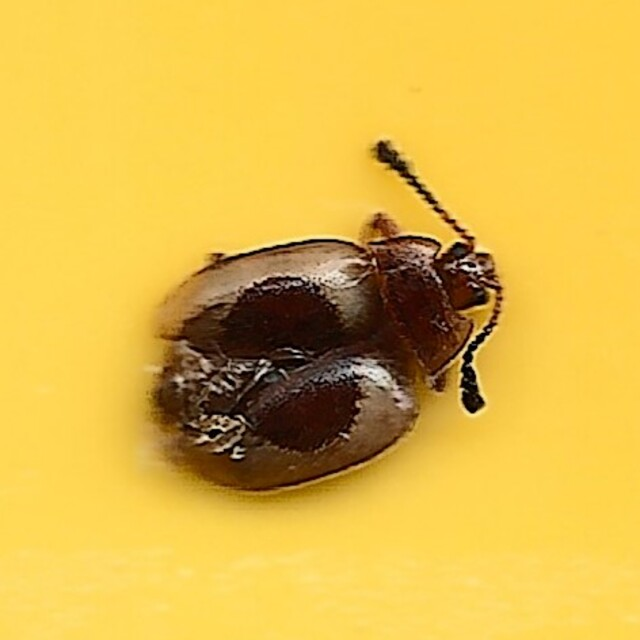Coleoptera: (136, 142, 504, 498)
